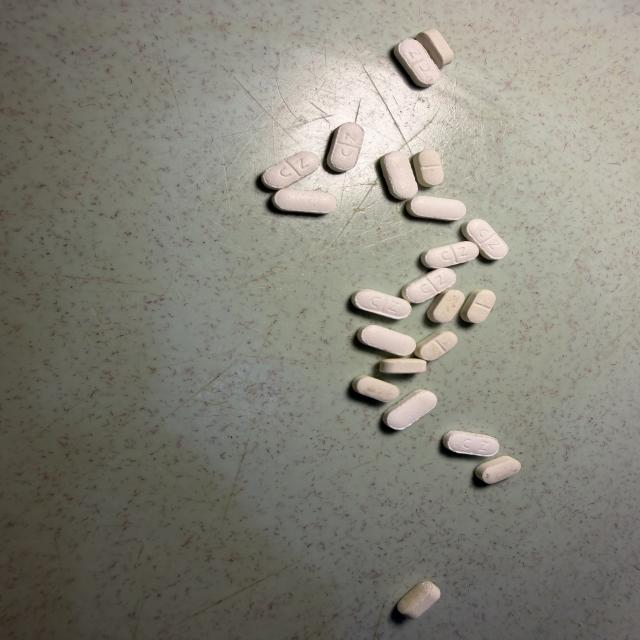pill: (394, 39, 440, 87), (262, 151, 319, 189), (383, 390, 437, 429), (402, 268, 456, 303), (327, 122, 364, 172), (462, 219, 508, 259), (357, 325, 415, 356), (352, 290, 411, 319), (381, 152, 417, 199), (272, 189, 337, 214), (397, 582, 440, 618), (406, 196, 466, 221), (421, 242, 478, 268), (416, 29, 453, 68), (443, 431, 499, 456), (475, 456, 521, 483), (415, 331, 457, 360), (427, 290, 464, 322), (352, 376, 399, 401), (461, 290, 496, 323), (414, 150, 444, 186), (380, 358, 426, 373)
